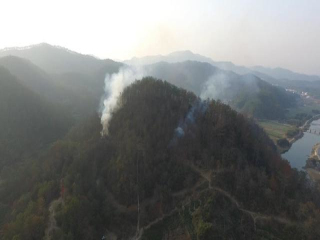smoke: (169, 75, 224, 145), (96, 65, 145, 139)
